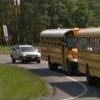Car: (6, 37, 41, 66)
